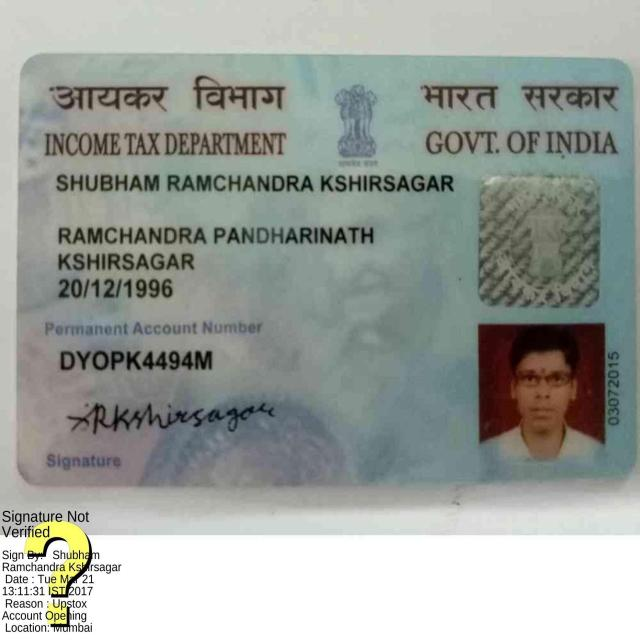pan_card: (19, 59, 632, 480)
